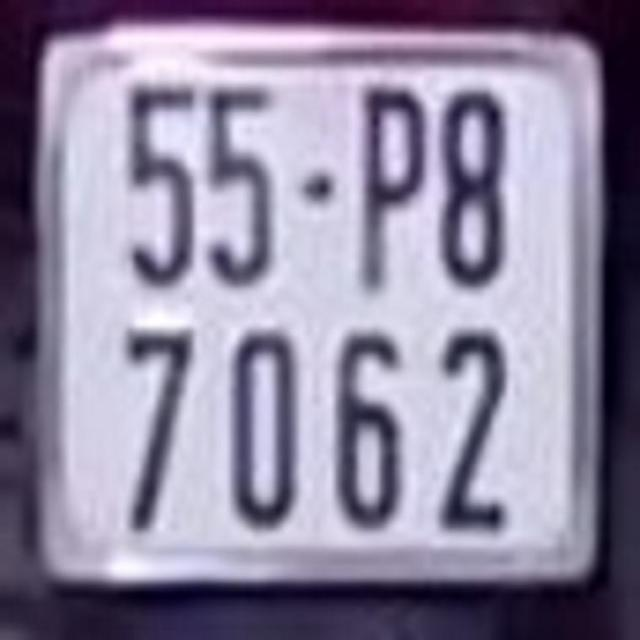0: (216, 322, 302, 529)
2: (430, 317, 517, 530)
5: (118, 76, 200, 287), (204, 75, 278, 287)
6: (324, 321, 408, 530)
7: (117, 317, 199, 534)
8: (436, 78, 515, 292)
P: (353, 76, 430, 292)
